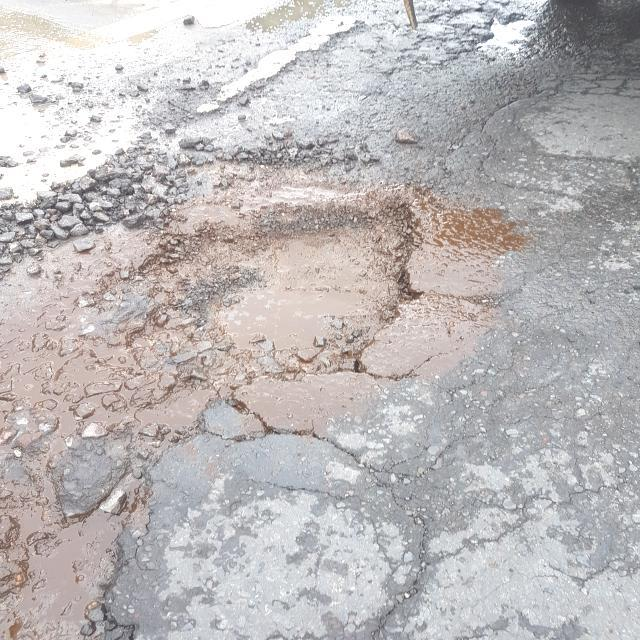Buraco: (0, 145, 428, 640), (459, 5, 541, 58)
